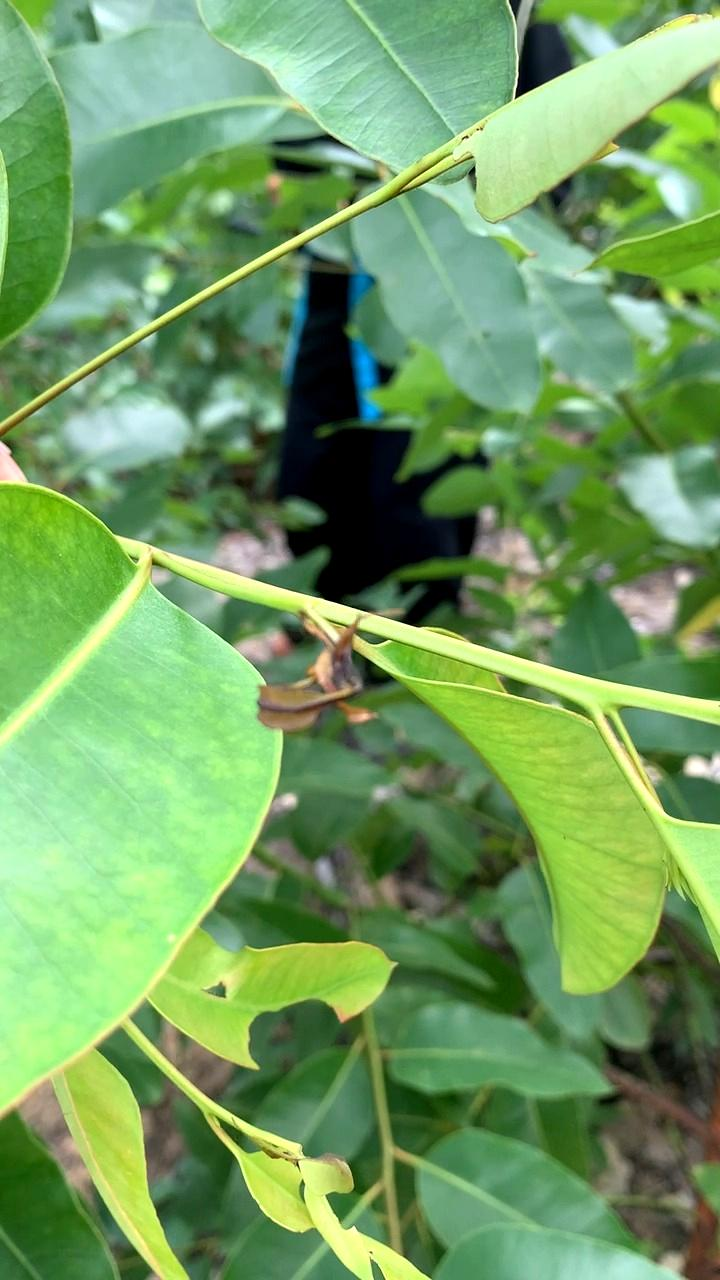Helopeltis-Withered Sprout: (245, 600, 413, 753)
